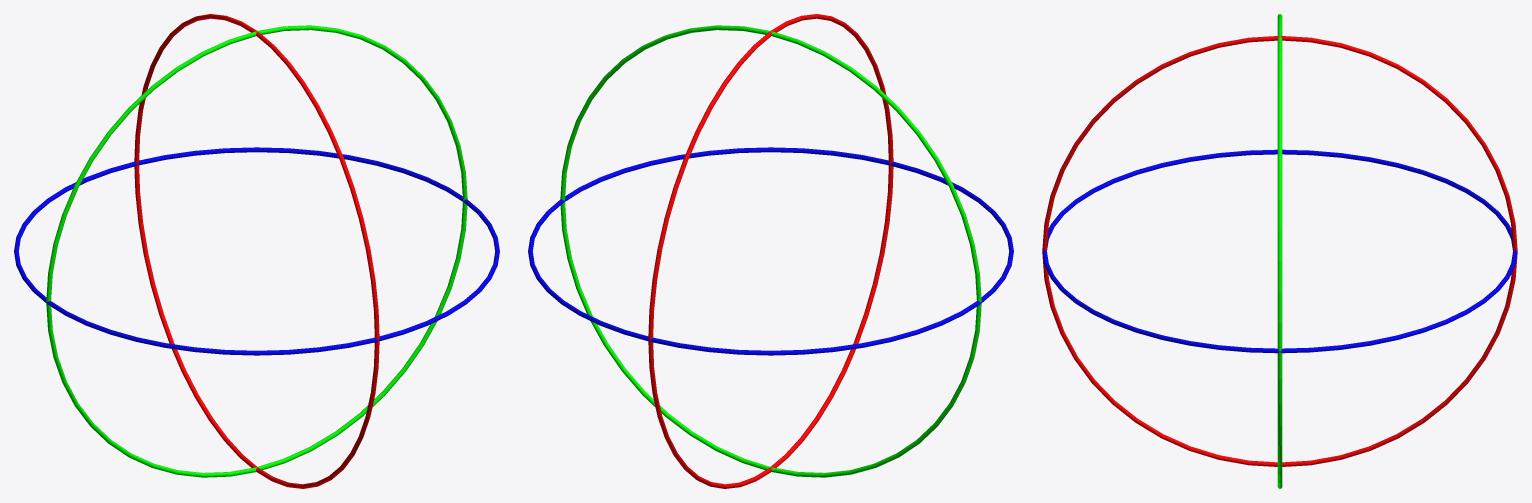
The model's file is rotaxis.fbx.
The picture shows the model from 3 angles, left to right: view 1: azimuth 30°, elevation 25°; view 2: azimuth 150°, elevation 25°; view 3: azimuth 270°, elevation 25°; orthographic projection. The views are drawn at different scales.
Parts seen in each view (by area): view 1: Torus.002, Torus.003, Torus.001; view 2: Torus.002, Torus.003, Torus.001; view 3: Torus.003, Torus.001, Torus.002.
Part boxes in pixels (box(x1,y1,x2,y2)): Torus.002: box(46, 25, 467, 477); Torus.003: box(134, 14, 379, 488); Torus.001: box(14, 147, 499, 355); Torus.002: box(560, 25, 981, 477); Torus.003: box(648, 14, 893, 488); Torus.001: box(528, 147, 1013, 355); Torus.003: box(1042, 36, 1517, 466); Torus.001: box(1042, 149, 1517, 353); Torus.002: box(1277, 14, 1282, 488).
Size of the model in its own units: 202 by 202 by 202.
